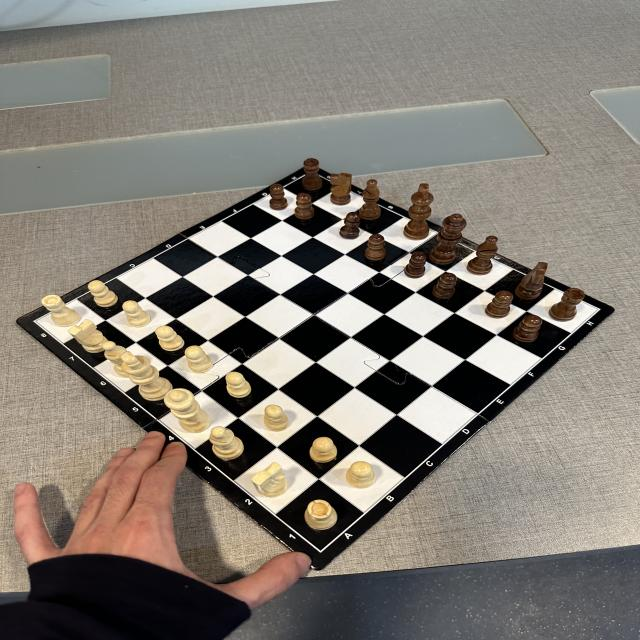Black-Bishop: (466, 236, 498, 276), (359, 179, 382, 220)
Black-King: (404, 183, 434, 241)
Black-Knight: (514, 261, 548, 300), (329, 172, 353, 205)
Black-Pawn: (512, 315, 542, 343), (484, 291, 514, 319), (432, 272, 457, 300), (404, 251, 426, 279), (364, 233, 386, 261), (339, 212, 360, 240), (294, 192, 315, 220), (269, 184, 288, 210)
Black-Queen: (428, 213, 467, 265)
Black-Rook: (548, 288, 585, 322), (301, 158, 323, 190)
White-Bishop: (209, 426, 244, 460), (102, 341, 130, 378)
White-King: (120, 352, 173, 402)
White-Knight: (67, 319, 110, 353), (250, 462, 288, 498)
White-Pawn: (122, 300, 151, 328), (155, 325, 185, 352), (88, 280, 118, 307), (346, 461, 375, 488), (185, 345, 212, 374), (309, 437, 337, 463), (263, 405, 290, 431), (226, 372, 251, 398)
White-Queen: (164, 388, 212, 433)
White-Rook: (41, 294, 80, 328), (304, 499, 338, 530)
